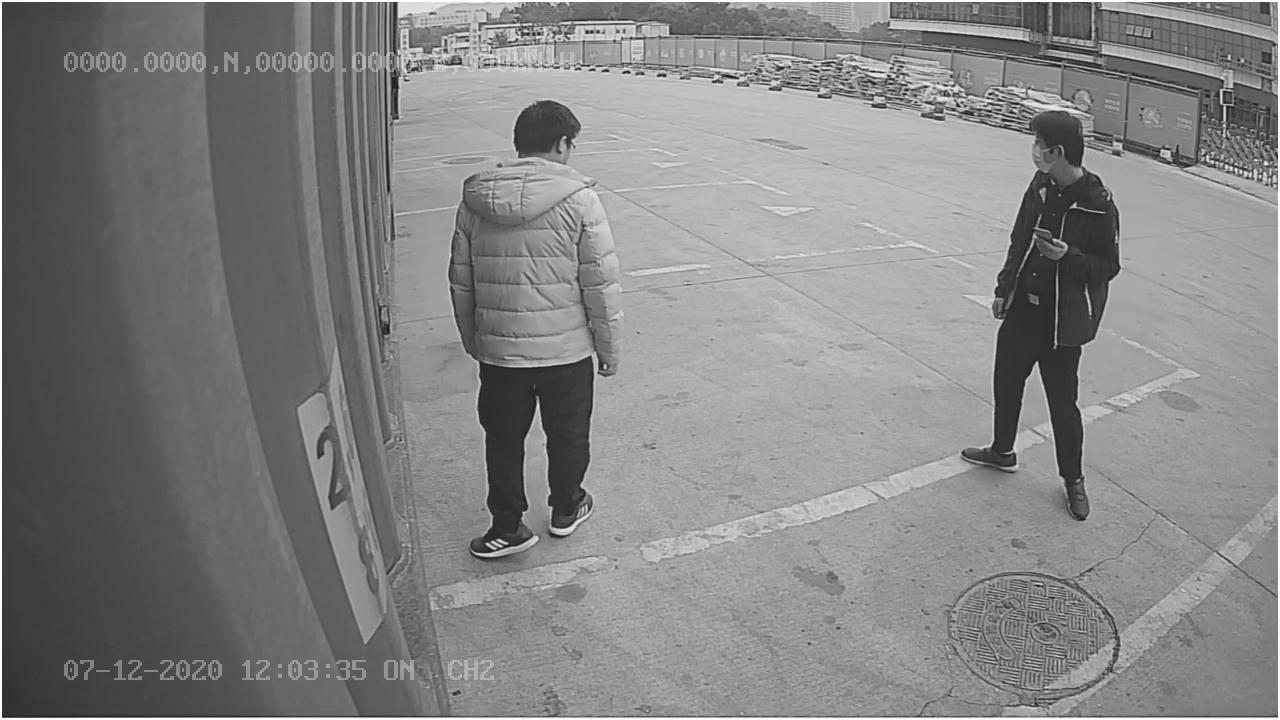person: (436, 87, 628, 557), (956, 101, 1125, 520)
